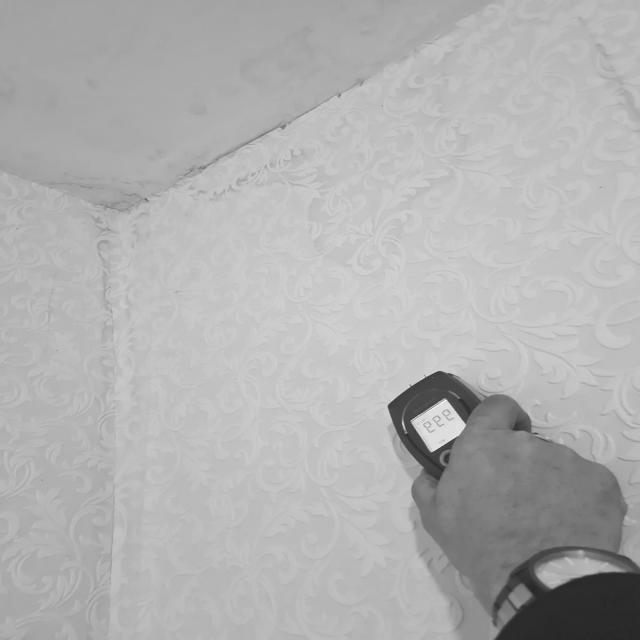stain marks: (158, 95, 309, 224), (1, 0, 140, 133), (308, 3, 504, 97), (29, 154, 160, 230), (573, 7, 640, 132), (230, 20, 312, 100)
